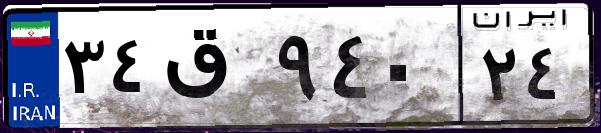0: (385, 28, 445, 110)
2: (475, 38, 525, 113)
3: (57, 26, 110, 100)
4: (330, 28, 385, 110), (525, 38, 570, 115), (110, 28, 158, 98)
9: (270, 28, 330, 110)
ق: (158, 20, 270, 120)
